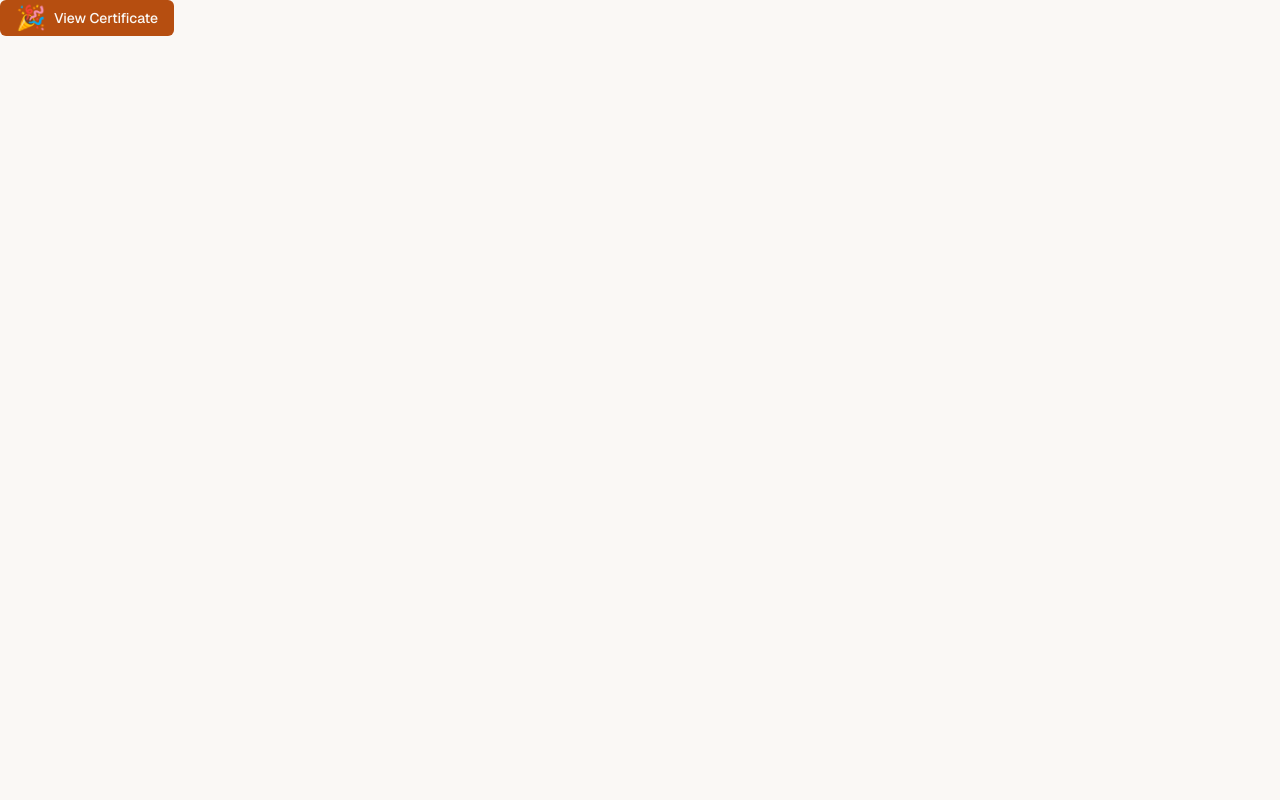
CertificateClient › opens certificate modal on click
Click the button "🎉 View Certificate" at (87, 18), box [0, 0, 174, 36]
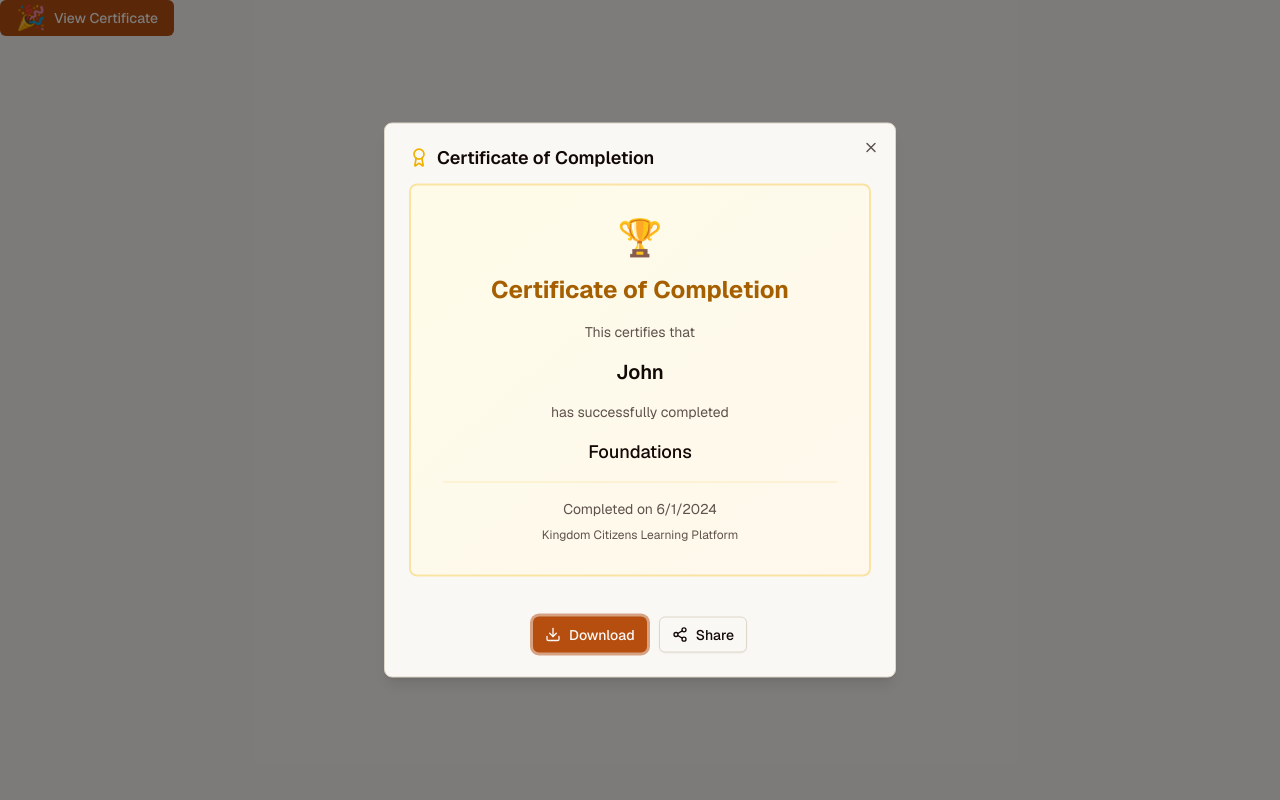
expect the text "Foundations" is shown: met, box [588, 440, 692, 462]
expect the text "John" is shown: met, box [616, 358, 664, 384]
